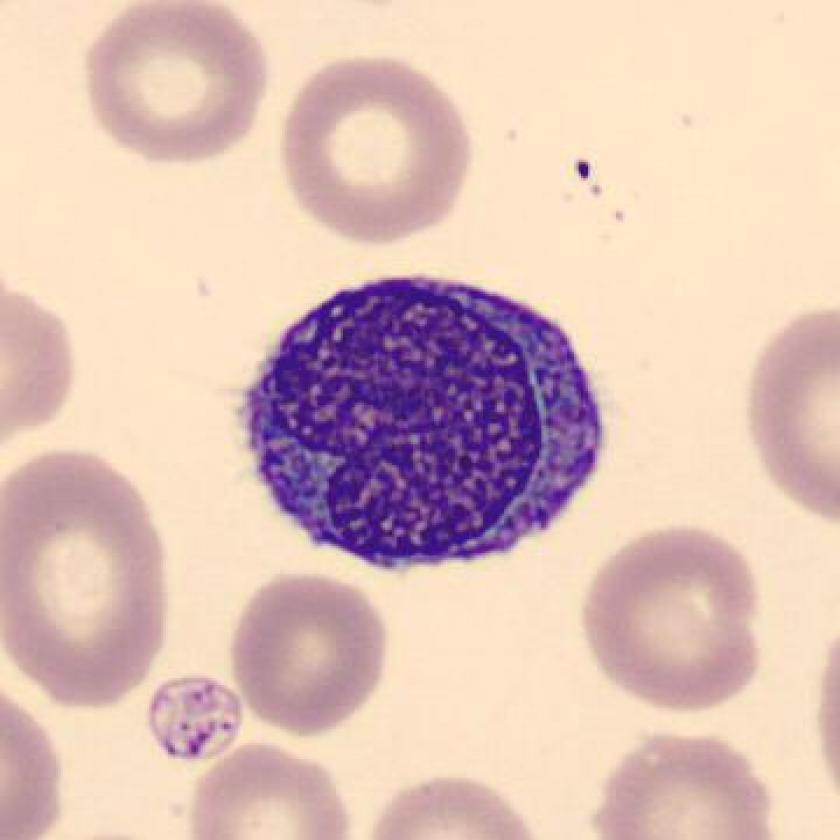monocyte: (227, 247, 624, 594)
